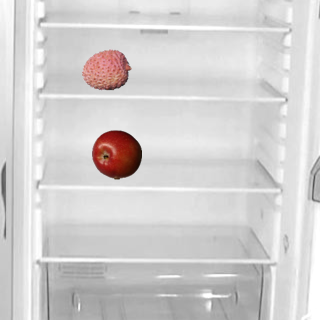Apple Braeburn: (91, 129, 141, 179)
Lychee: (81, 44, 131, 94)
